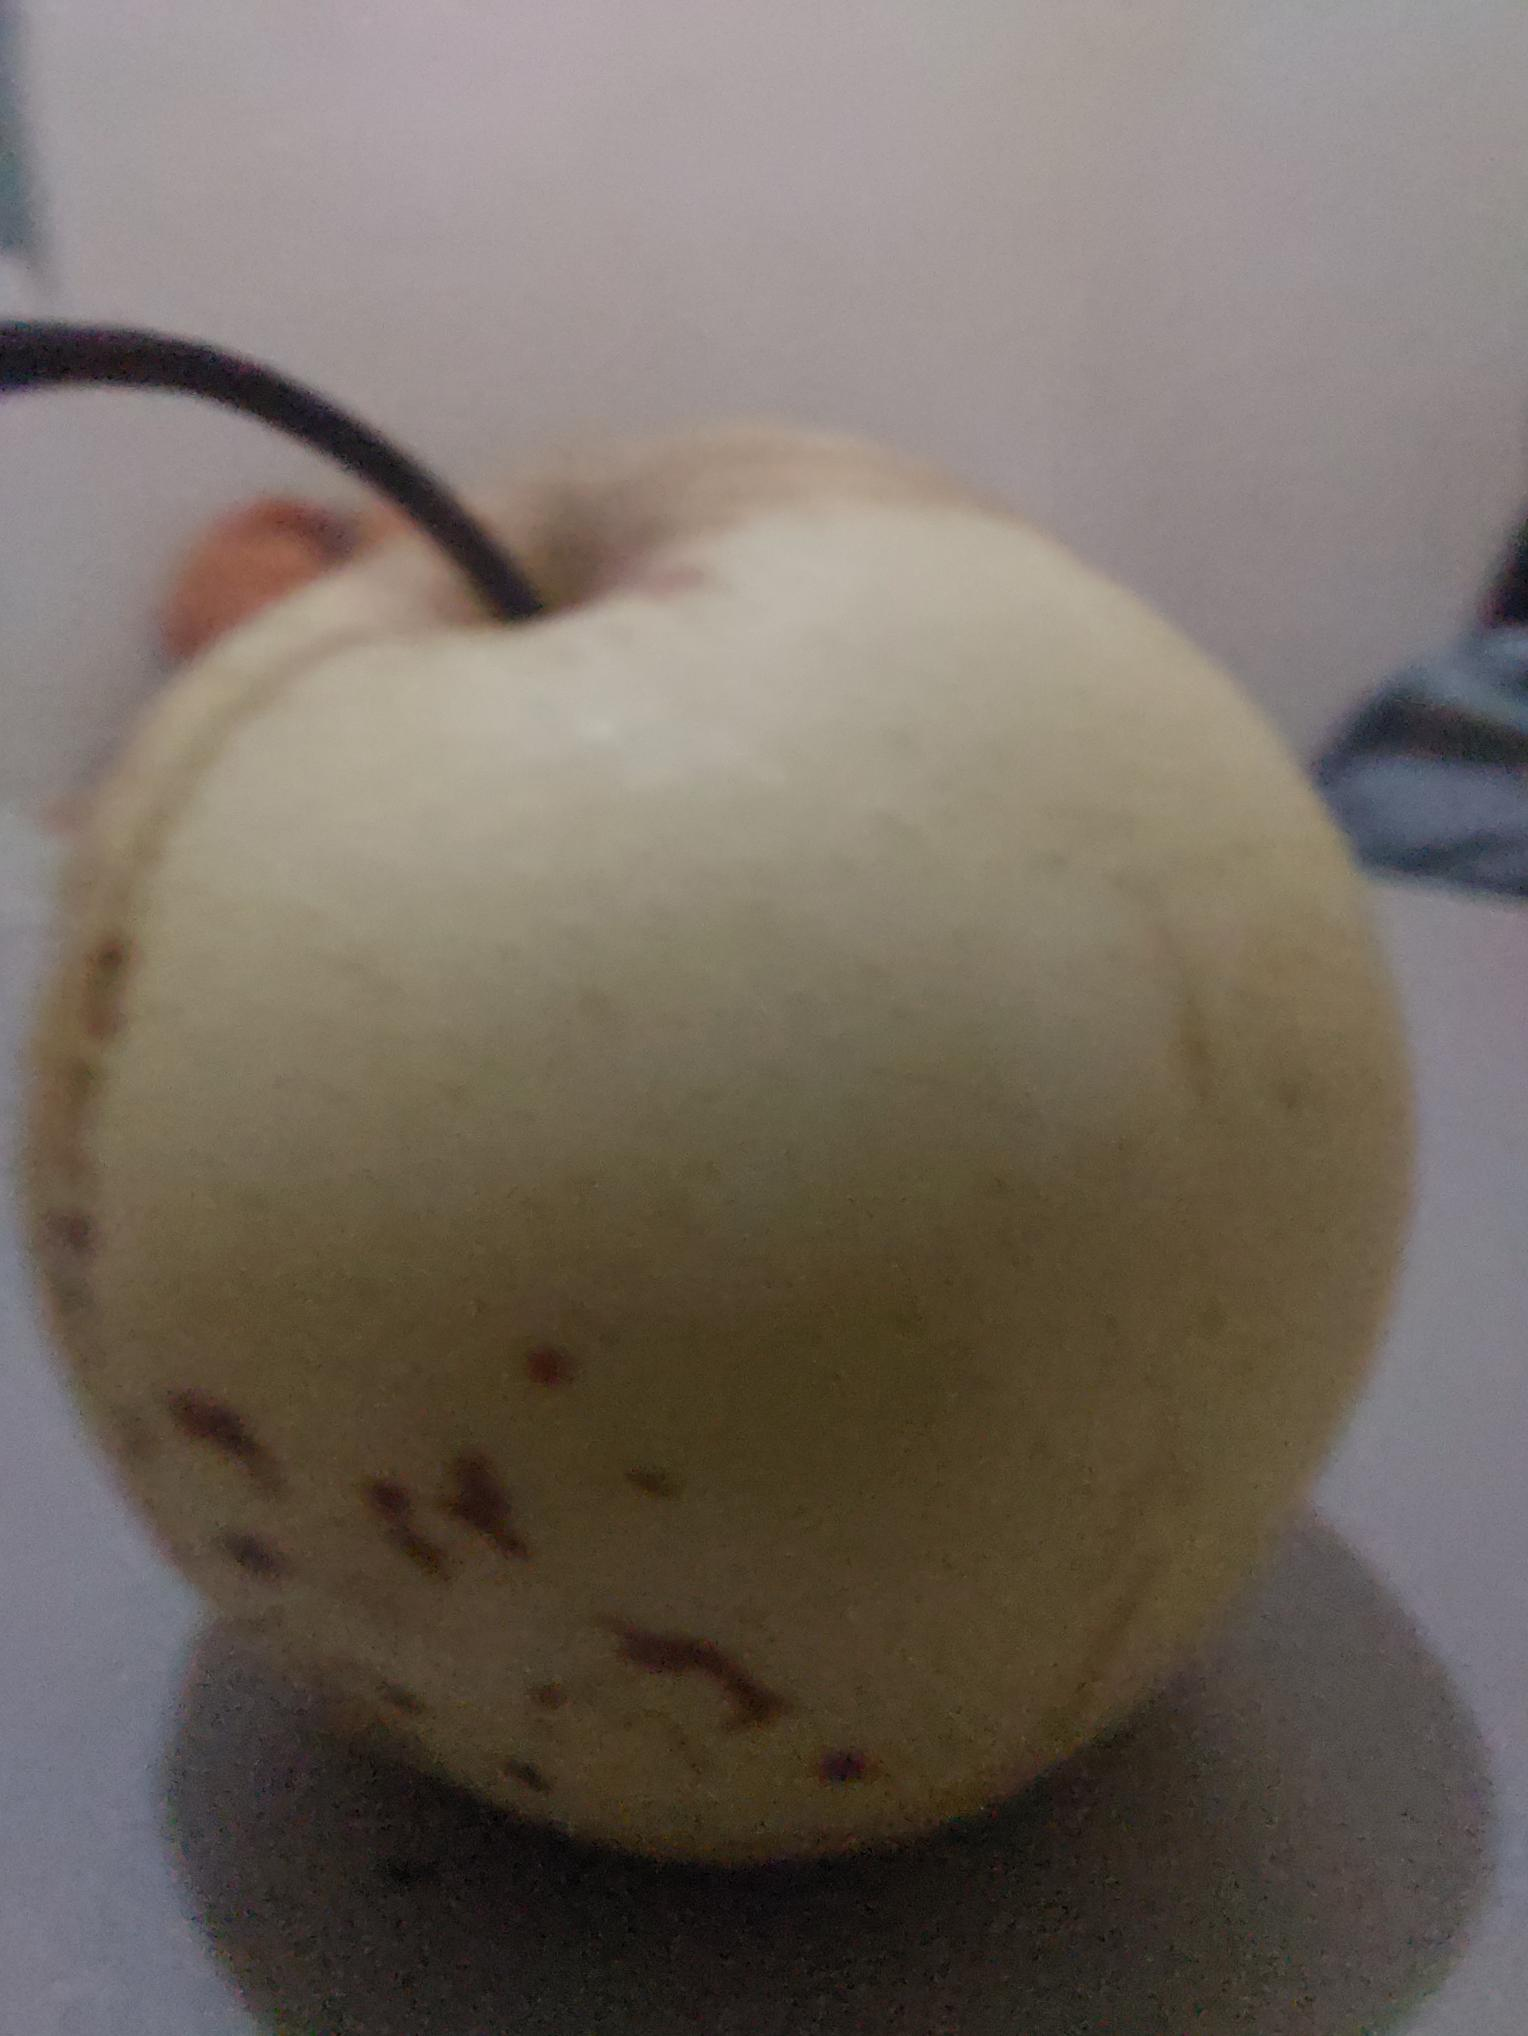Bad Pear: (16, 427, 1398, 1851)
